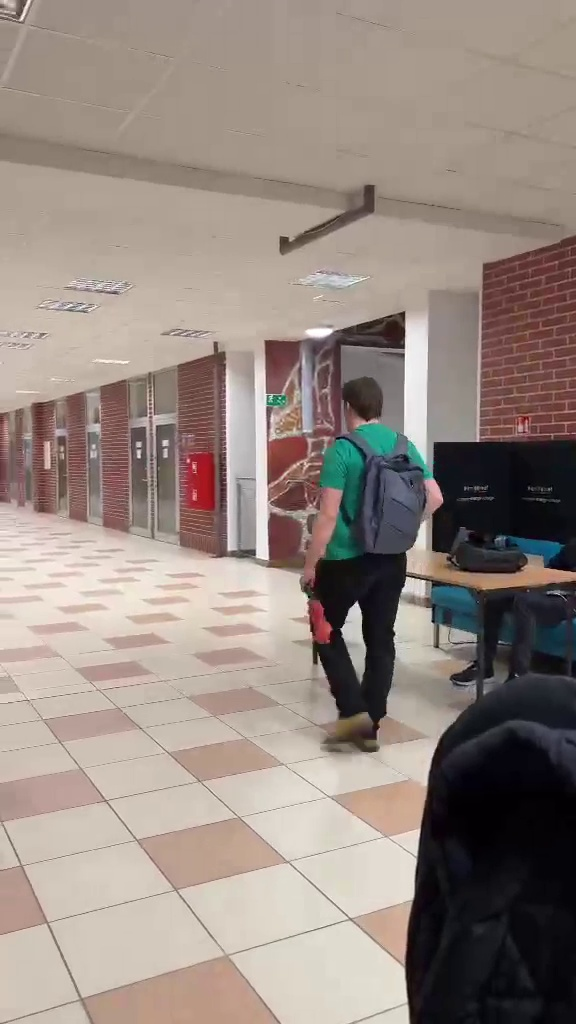no vest: (304, 379, 447, 753)
